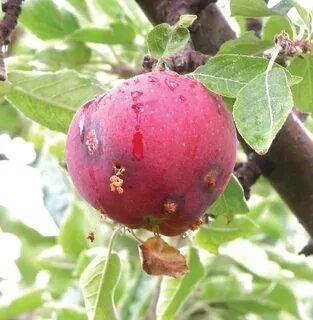Apple: (66, 72, 237, 236)
